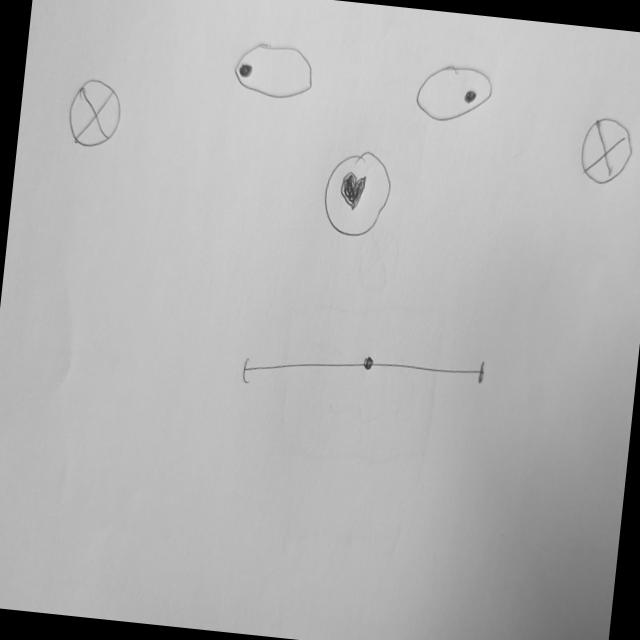icon-button: (319, 144, 397, 244)
image: (576, 112, 640, 192), (65, 75, 128, 156)
slider: (236, 332, 492, 417)
toggle: (412, 59, 497, 132), (230, 39, 320, 105)
